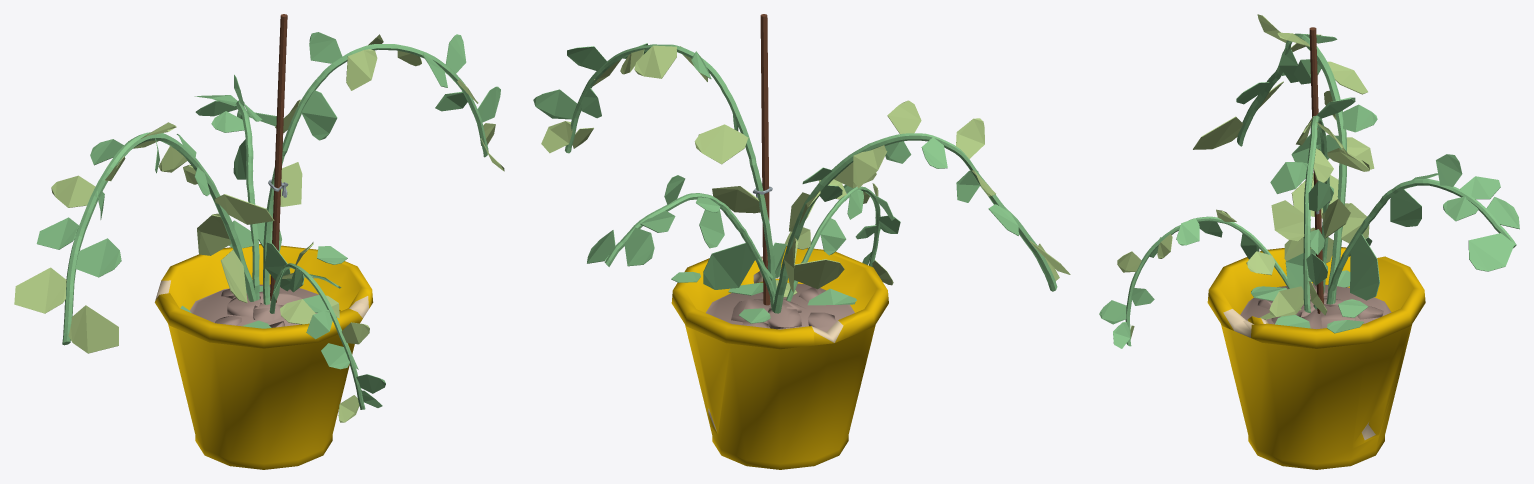
The model's file is plant2.fbx.
3 renders of one model, left to right at view 1: azimuth 30°, elevation 25°; view 2: azimuth 150°, elevation 25°; view 3: azimuth 270°, elevation 25°, orthographic.
Parts seen in each view (by area): view 1: leaves, pot, wooden_stick, fallen_leaves; view 2: pot, leaves, wooden_stick, fallen_leaves; view 3: leaves, pot, fallen_leaves, wooden_stick.
Boxes of the visible parts, <box> form: leaves: <box>14,32,504,422</box>; pot: <box>154,244,373,469</box>; wooden_stick: <box>270,14,287,302</box>; fallen_leaves: <box>180,246,347,328</box>; pot: <box>671,246,888,469</box>; leaves: <box>533,43,1070,313</box>; wooden_stick: <box>760,14,770,305</box>; fallen_leaves: <box>671,271,856,323</box>; leaves: <box>1099,14,1519,348</box>; pot: <box>1207,247,1425,469</box>; fallen_leaves: <box>1251,270,1368,333</box>; wooden_stick: <box>1309,27,1323,313</box>.
Size of the model in its own units: 3.36 by 2.65 by 2.39.
